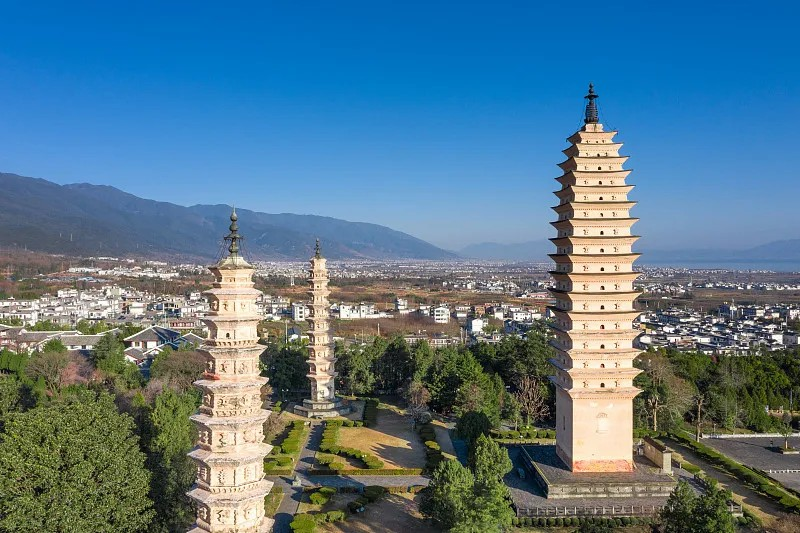ThreePagoda: (548, 81, 645, 473)
